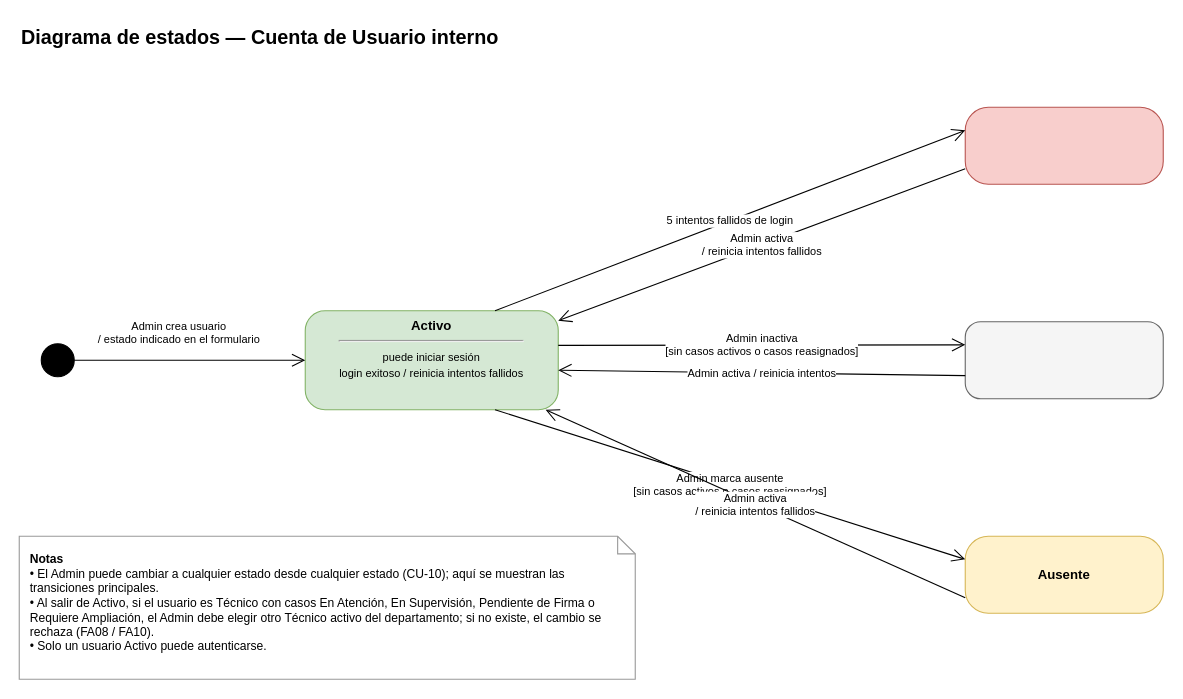
The diagram is 1183 pixels wide and 699 high, and some of its shapes have lost their labels. Here are the shapes that lost their labels. From the top down, the box of each, then its label:
(964, 106, 1163, 184): Bloqueado
(964, 321, 1163, 399): Inactivo no puede recuperar contraseña
